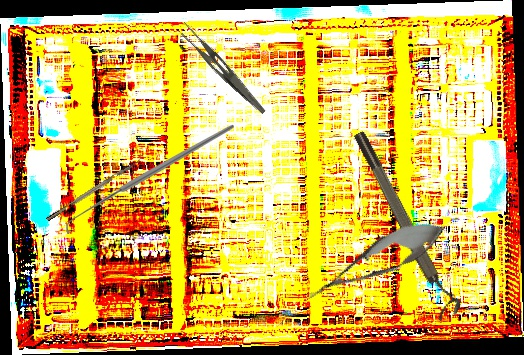Chopper: (43, 152, 145, 222)
Dressing Forceps: (173, 20, 275, 115)
Fixation Ring: (350, 125, 465, 322)
Hook Surgical: (65, 123, 235, 234)
Micro Scissor: (298, 207, 453, 315)
